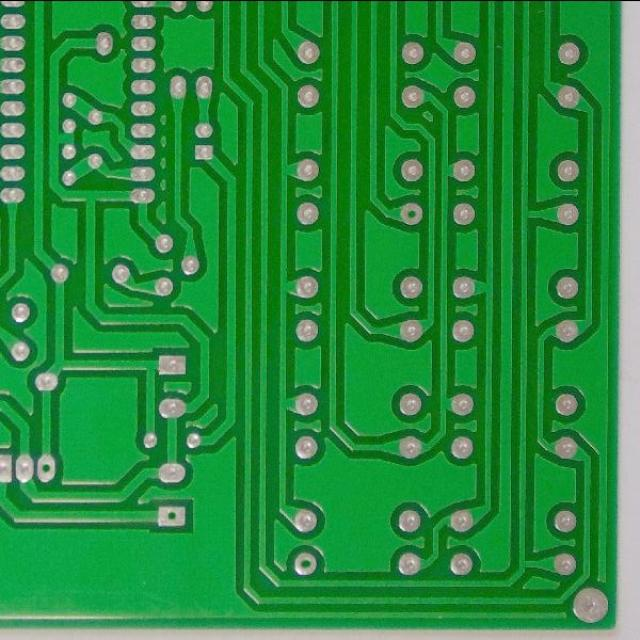Missing_Hole: (154, 501, 188, 529), (396, 200, 426, 228), (291, 550, 320, 577), (35, 452, 59, 483)
